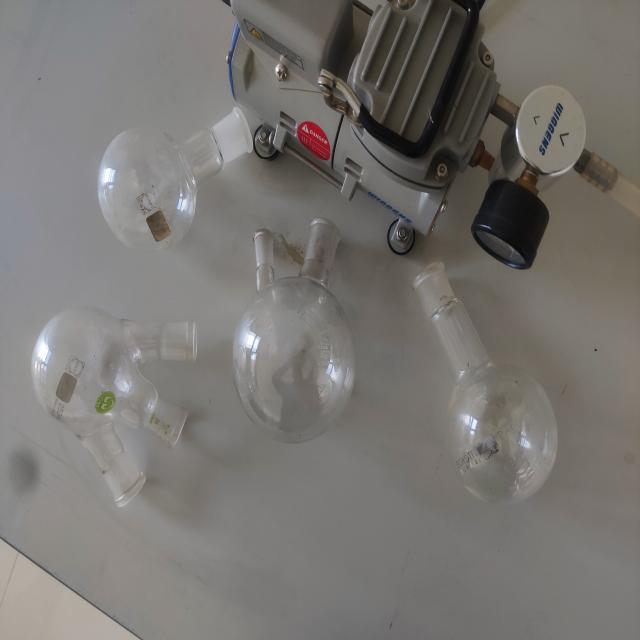Round_Bottom_Flask_Borosilicate_Glass_1_Neck: (392, 209, 582, 550), (77, 54, 275, 255)
Round_Bottom_Flask_Borosilicate_Glass_2_Neck: (226, 177, 371, 463)
Round_Bottom_Flask_Borosilicate_Glass_3_Neck: (16, 258, 228, 534)
